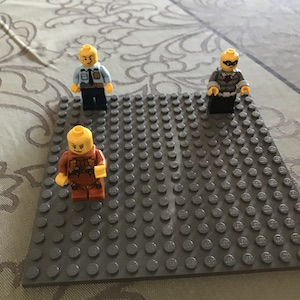Lego: (55, 125, 108, 204), (69, 44, 114, 112), (204, 50, 250, 116)
